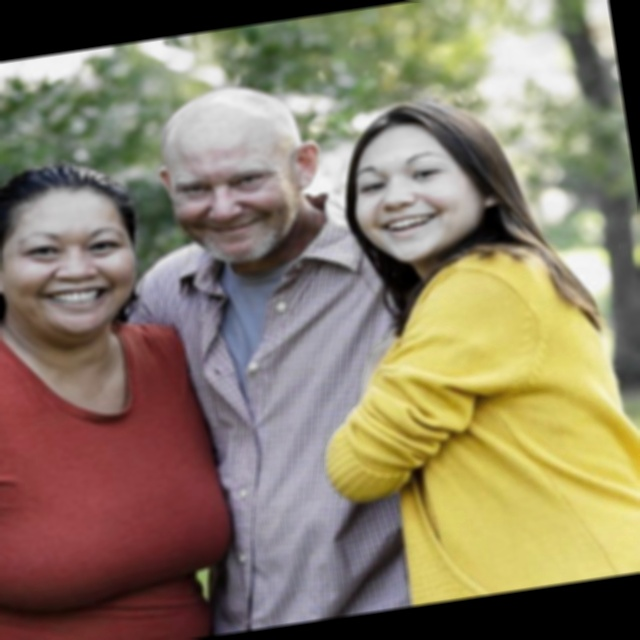Sin_Casco_Mascarrilla: (144, 76, 333, 272), (326, 89, 510, 266), (0, 155, 147, 351)
